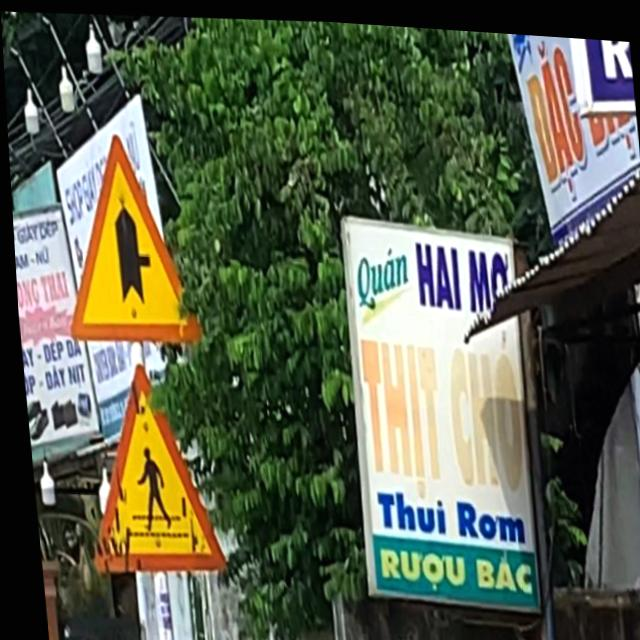Giao nhau voi duong khong uu tien ben phai: (46, 122, 200, 348)
Nguoi di bo cat ngang: (69, 353, 222, 577)
